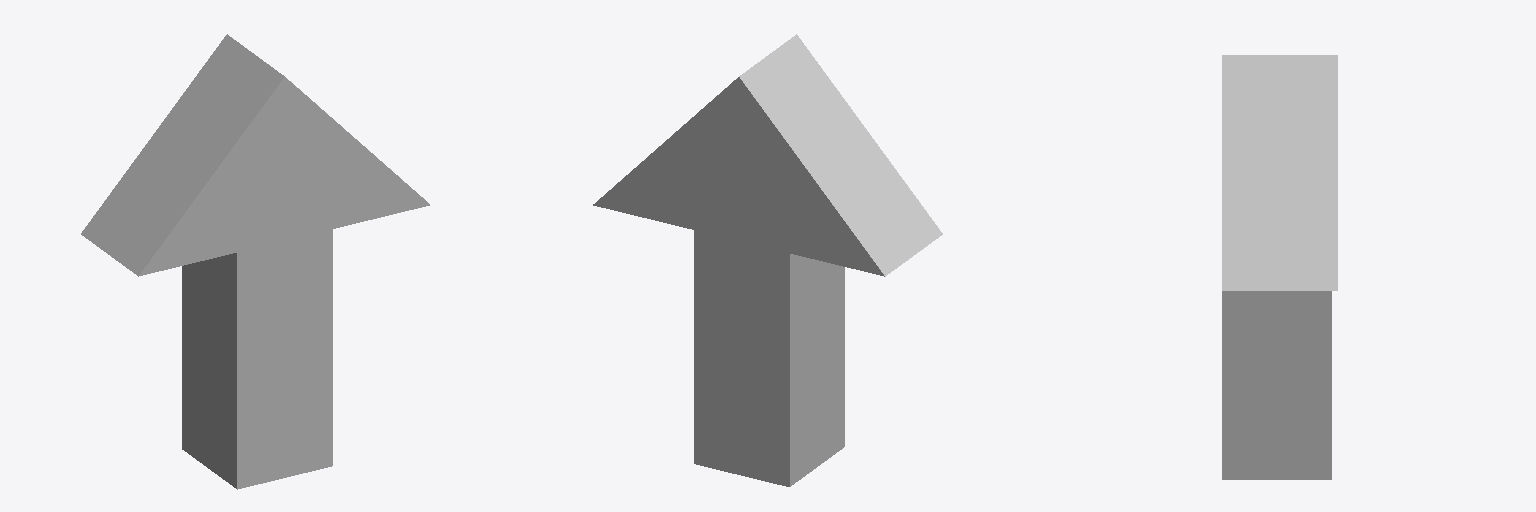
Rendered from receptor-triangle.obj.
3 renders of one model, left to right at view 1: azimuth 30°, elevation 25°; view 2: azimuth 150°, elevation 25°; view 3: azimuth 270°, elevation 25°, orthographic.
Visible parts, largest first — view 1: triangle_Cube.012; view 2: triangle_Cube.012; view 3: triangle_Cube.012.
Boxes of the visible parts, <box> form: triangle_Cube.012: <box>81,34,429,489</box>; triangle_Cube.012: <box>593,34,942,486</box>; triangle_Cube.012: <box>1222,55,1337,479</box>.
Bounding box in the file's own units: 6.12 × 8.02 × 2.11.